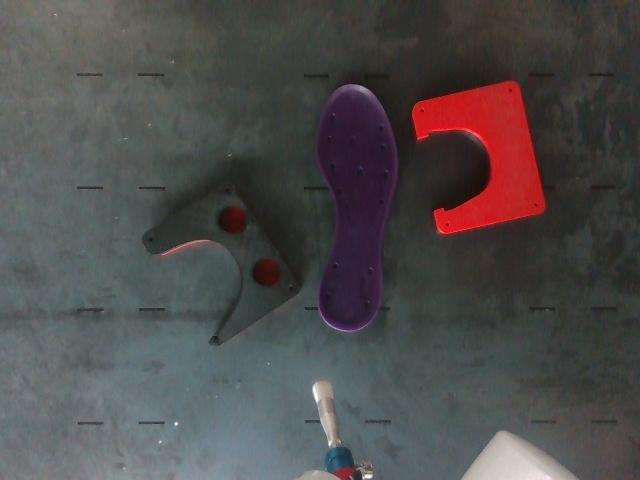shoes: (316, 84, 397, 331)
